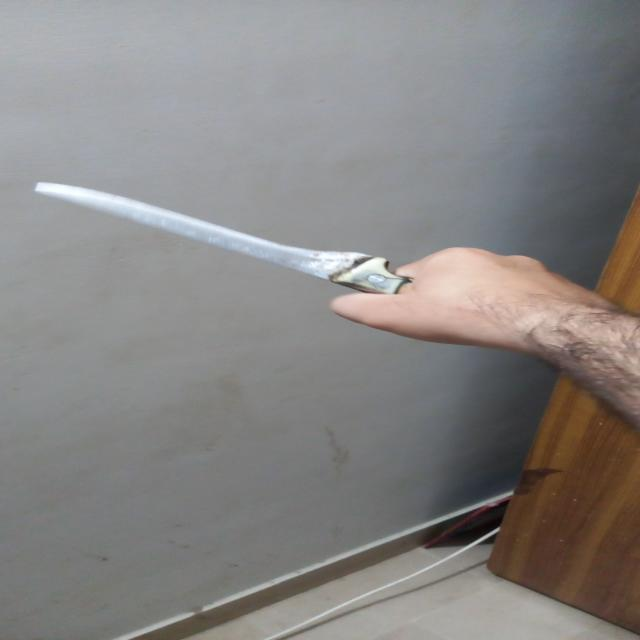knife: (15, 143, 436, 345)
